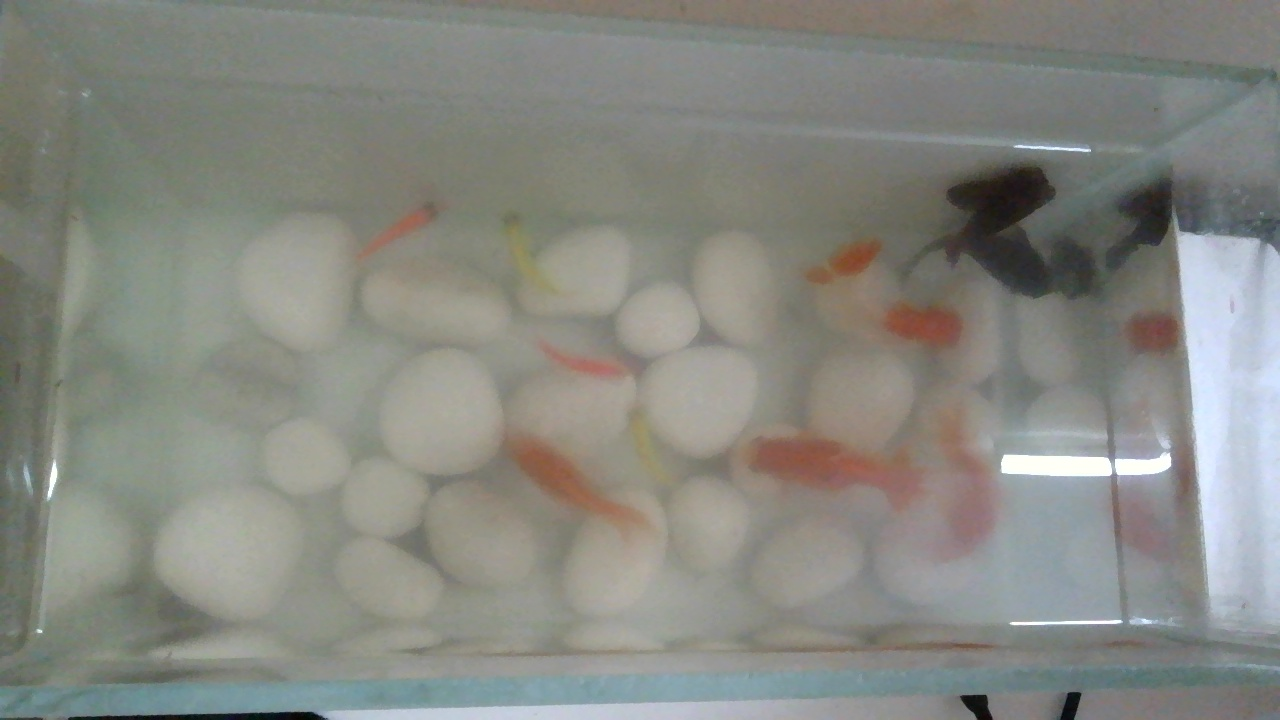fish: (493, 361, 679, 540)
